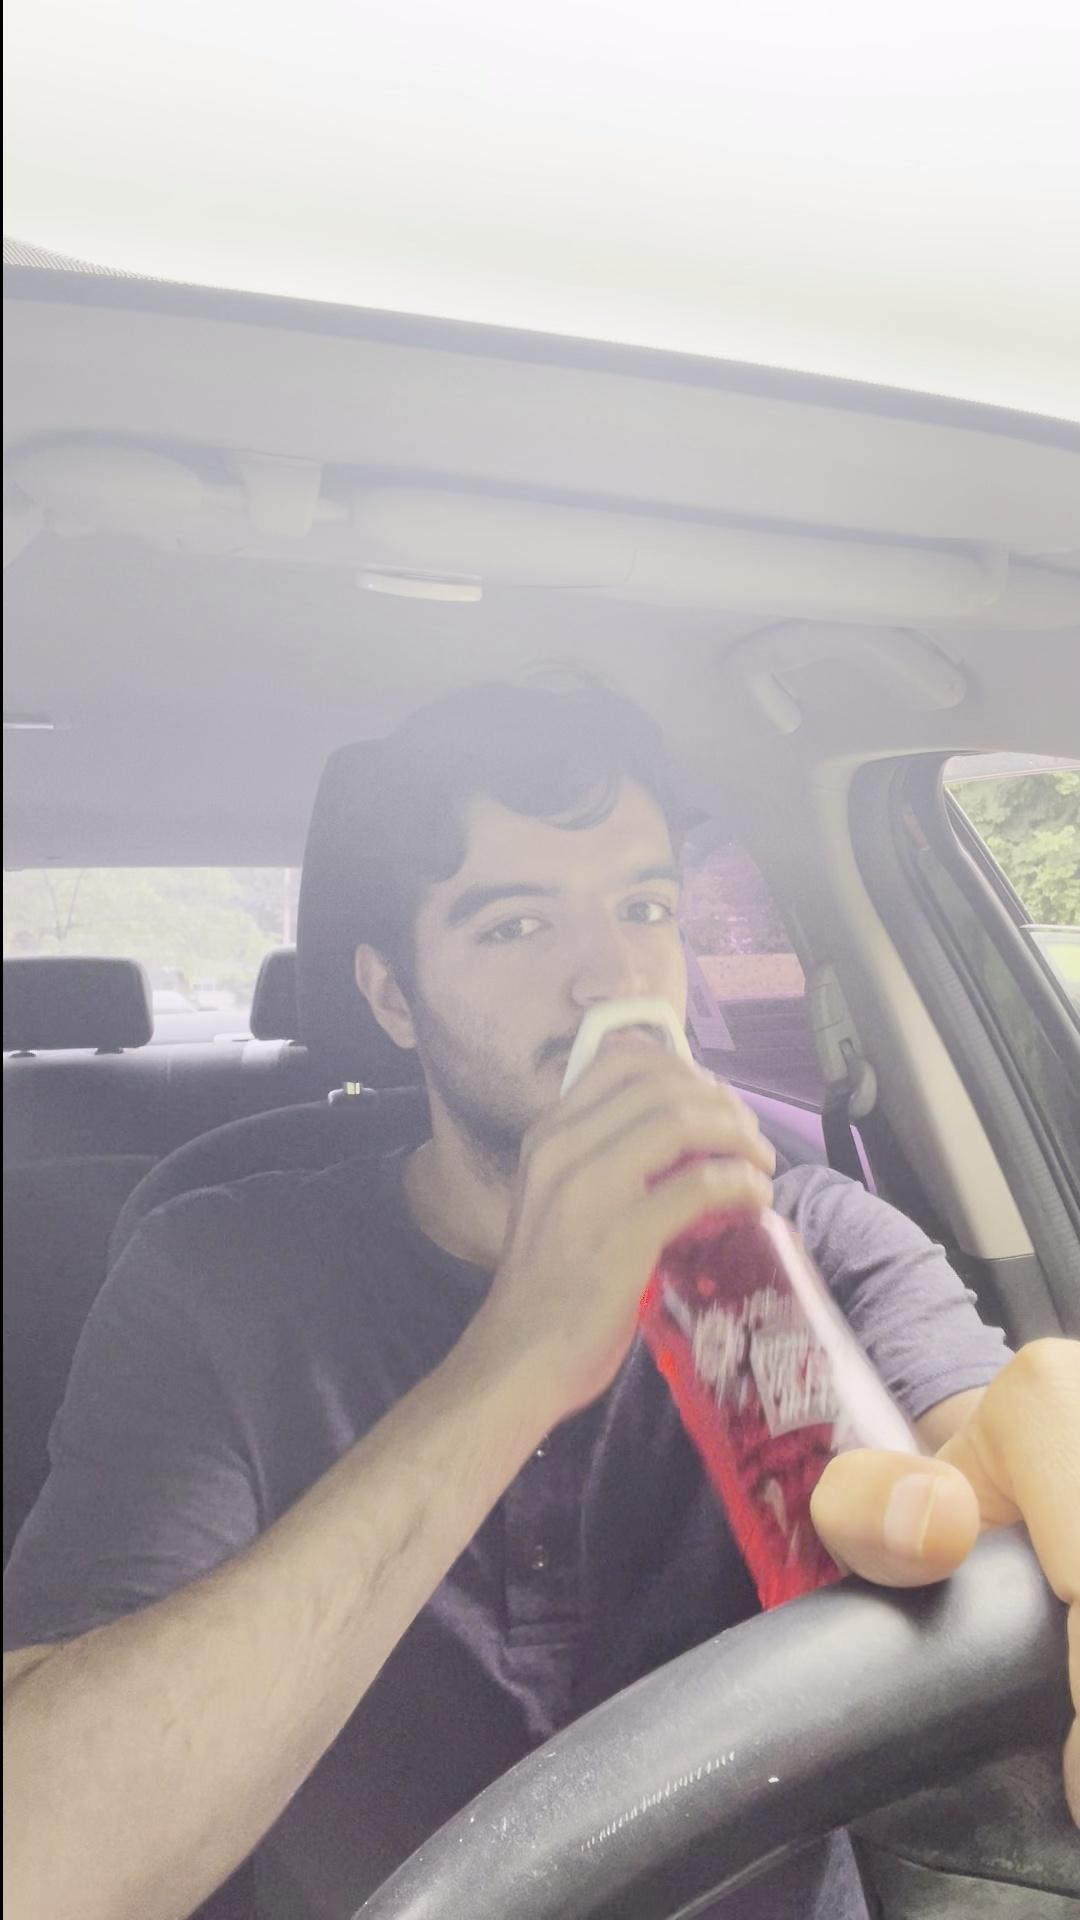drinking: (526, 1017, 971, 1623)
